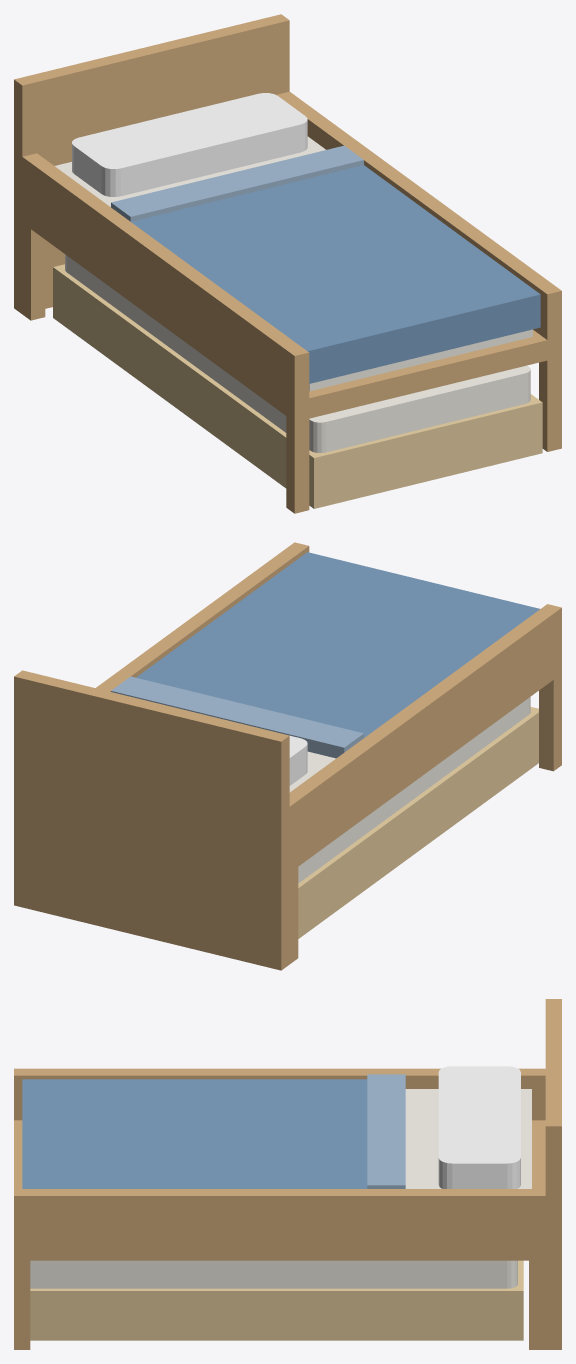
Rendered from trundle_bed.glb.
3 renders of one model, top to bottom at view 1: azimuth 30°, elevation 25°; view 2: azimuth 150°, elevation 25°; view 3: azimuth 270°, elevation 25°, orthographic. The views are drawn at different scales.
Parts seen in each view (by area): view 1: trundle_bed_Body, trundle_bed_Trundle; view 2: trundle_bed_Body, trundle_bed_Trundle; view 3: trundle_bed_Body, trundle_bed_Trundle.
Part boxes in pixels (x1,y1,x2,y2): trundle_bed_Body: (14,14,561,513); trundle_bed_Trundle: (53,254,542,508); trundle_bed_Body: (14,542,561,970); trundle_bed_Trundle: (298,697,538,938); trundle_bed_Body: (14,999,561,1349); trundle_bed_Trundle: (30,1260,523,1340).
Bounding box in the file's own units: 1.1 × 0.9 × 2.
